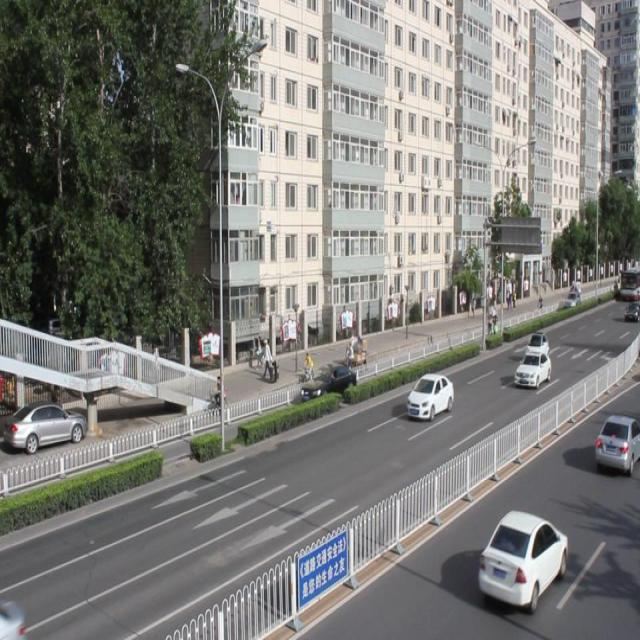car: (477, 507, 567, 609), (594, 414, 640, 475), (406, 372, 454, 422), (298, 362, 356, 402), (512, 349, 551, 388), (1, 590, 24, 640), (524, 328, 547, 361)
